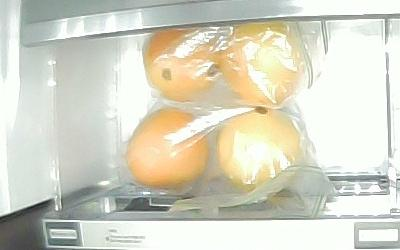grapefruit_vinyl: (215, 107, 301, 192), (220, 23, 306, 107), (127, 108, 210, 189), (143, 29, 221, 102)
